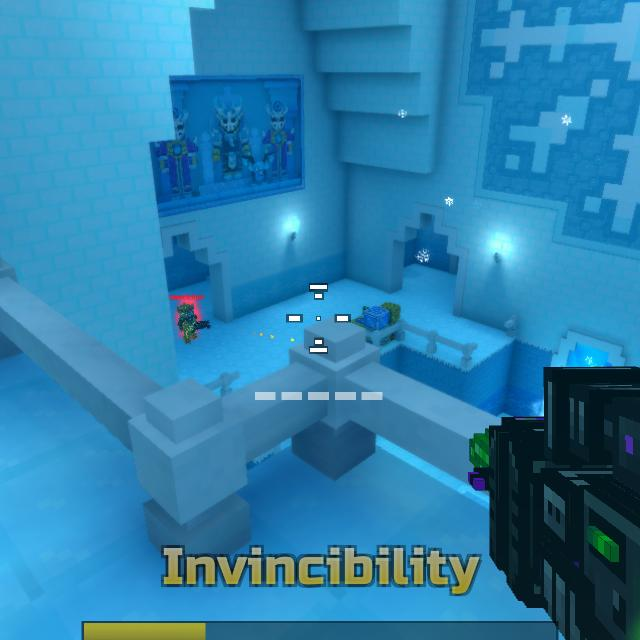Enemy: (176, 302, 198, 344)
